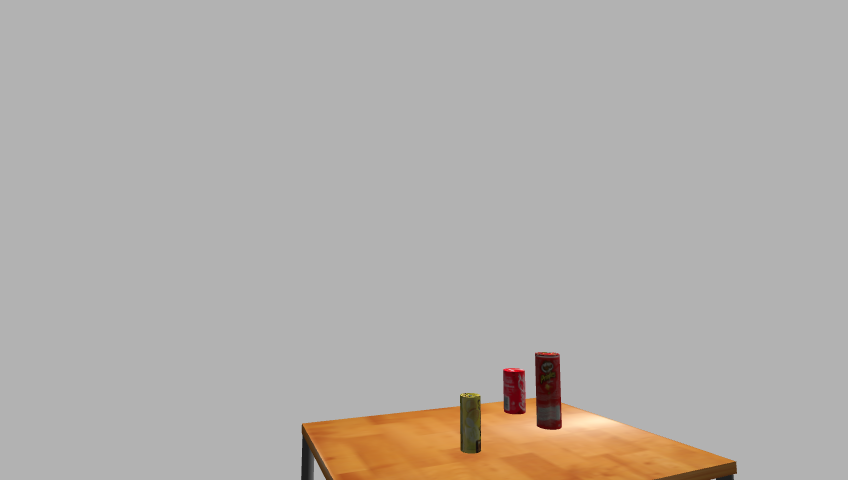biscuits pack: (458, 393, 483, 455)
coke can: (501, 368, 528, 415)
dinner table: (291, 399, 744, 480)
pringles can: (534, 351, 563, 431)
